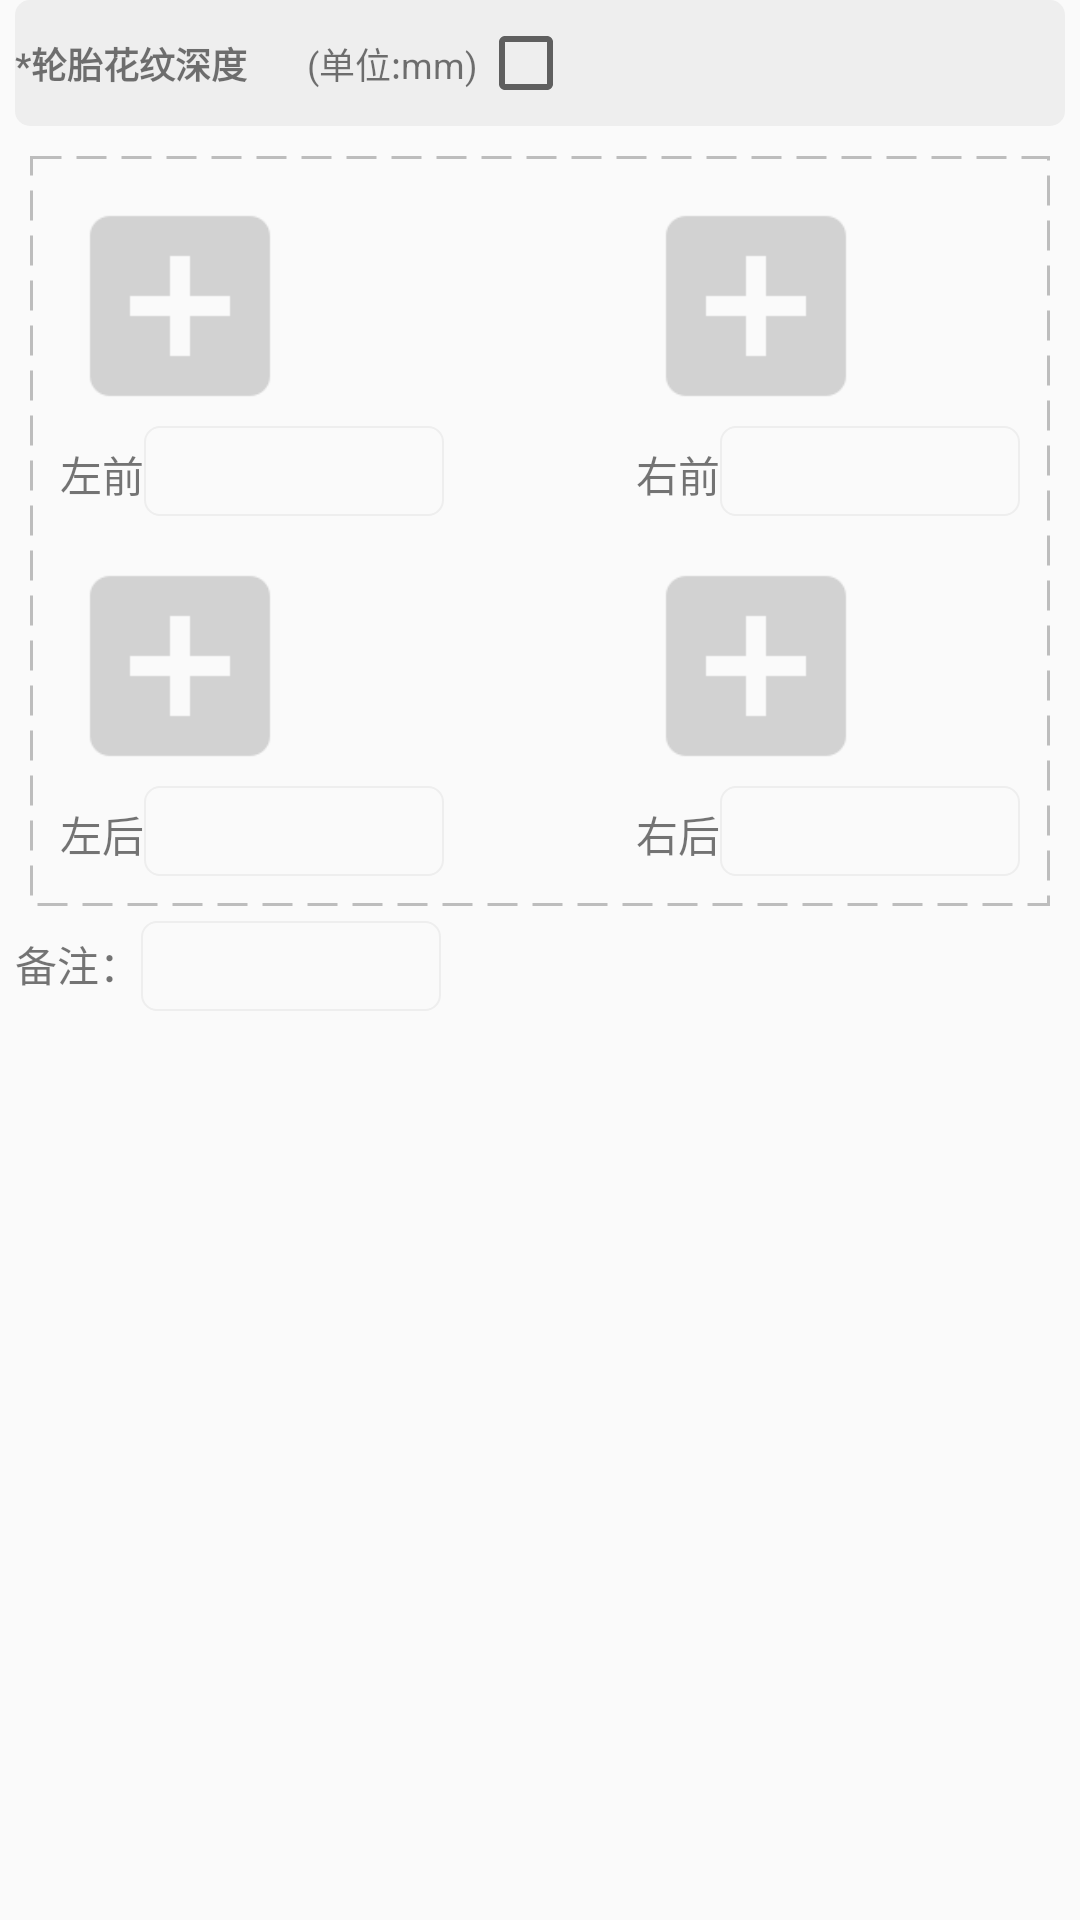

Point at icon controls on the screen. Image size 1080×1920, points as (x,y).
add box: (180,306), (756,306), (180,666), (756,666)
